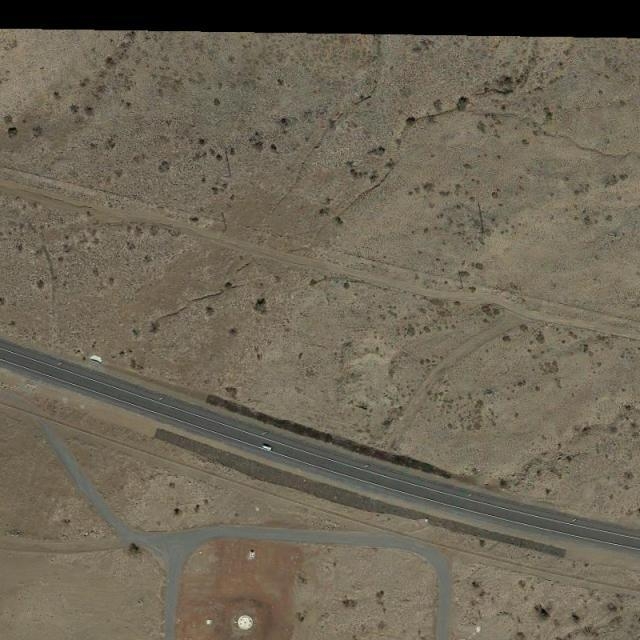vehicle: (261, 445, 273, 452)
